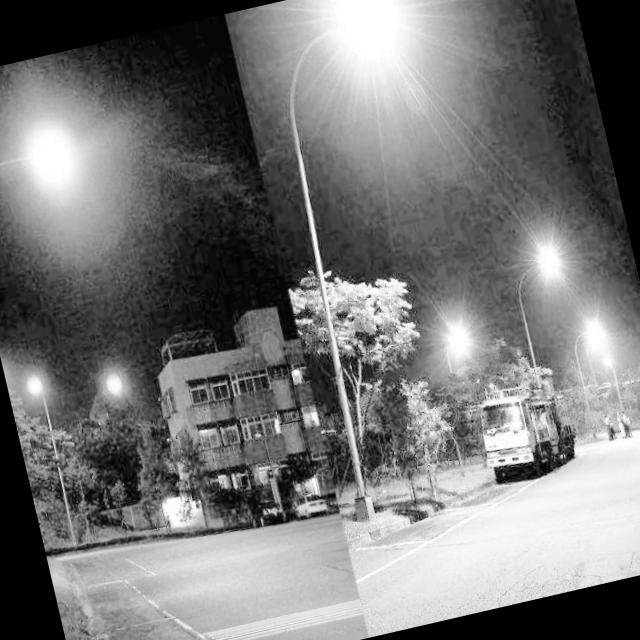Light: (330, 0, 410, 60), (27, 123, 74, 185), (529, 224, 572, 286), (438, 311, 478, 363), (22, 363, 48, 402), (582, 316, 610, 352), (99, 371, 128, 405)
Tree: (296, 250, 413, 481), (400, 374, 457, 512)
